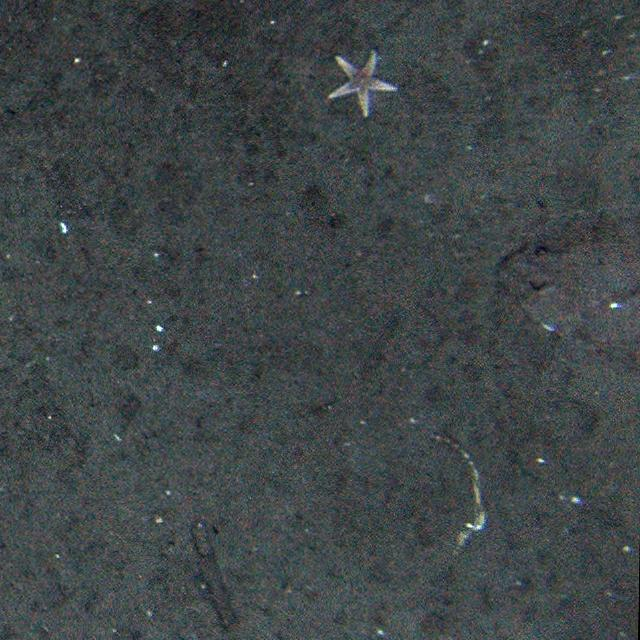flatfish: (505, 209, 640, 369)
